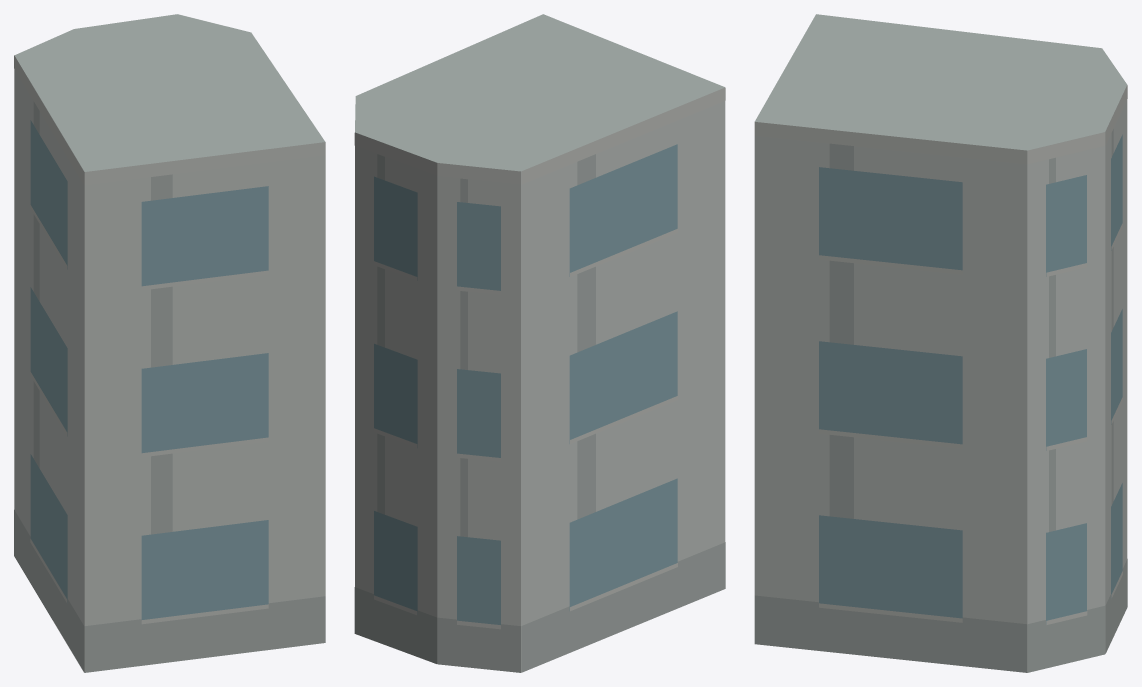
Rendered from survey-upis-32646378.glb.
The picture shows the model from 3 angles, left to right: view 1: azimuth 30°, elevation 25°; view 2: azimuth 150°, elevation 25°; view 3: azimuth 270°, elevation 25°; orthographic projection. The views are drawn at different scales.
Parts seen in each view (by area): view 1: survey-upis-32646378.tmp; view 2: survey-upis-32646378.tmp; view 3: survey-upis-32646378.tmp.
Part boxes in pixels (left/top/right/bottom): survey-upis-32646378.tmp: left=14, top=14, right=325, bottom=672; survey-upis-32646378.tmp: left=354, top=14, right=725, bottom=672; survey-upis-32646378.tmp: left=754, top=14, right=1127, bottom=672.
Bounding box in the file's own units: 5.14 × 9.15 × 5.93.
